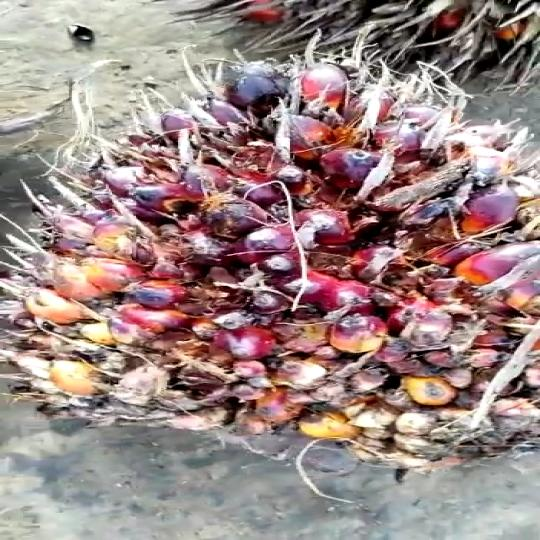masak: (0, 0, 540, 495)
